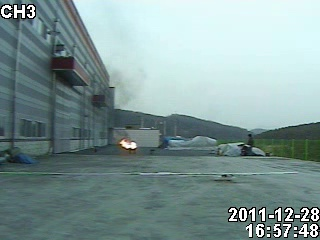fire: (114, 135, 143, 149)
